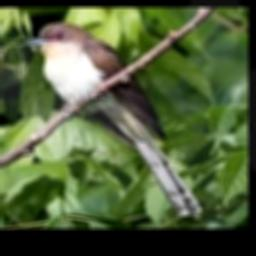Cuckoo: (23, 22, 202, 219)
